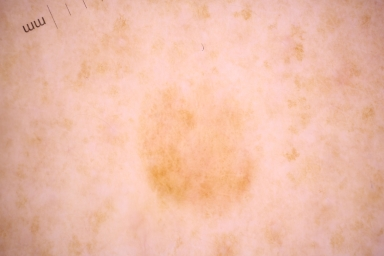nevus: (143, 90, 253, 216)
